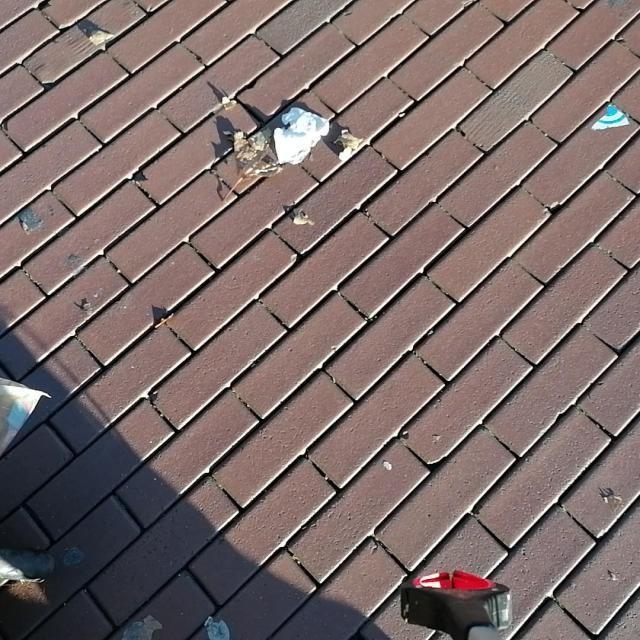Paper: (272, 106, 330, 166)
